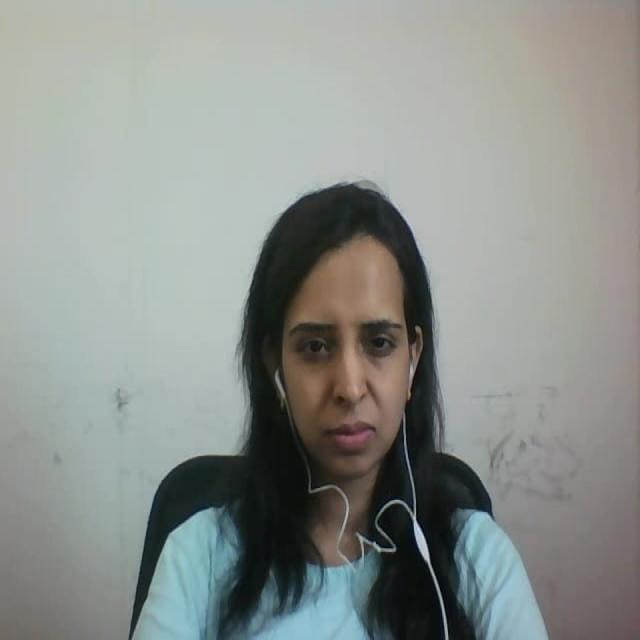Engaged: (227, 147, 453, 509)
